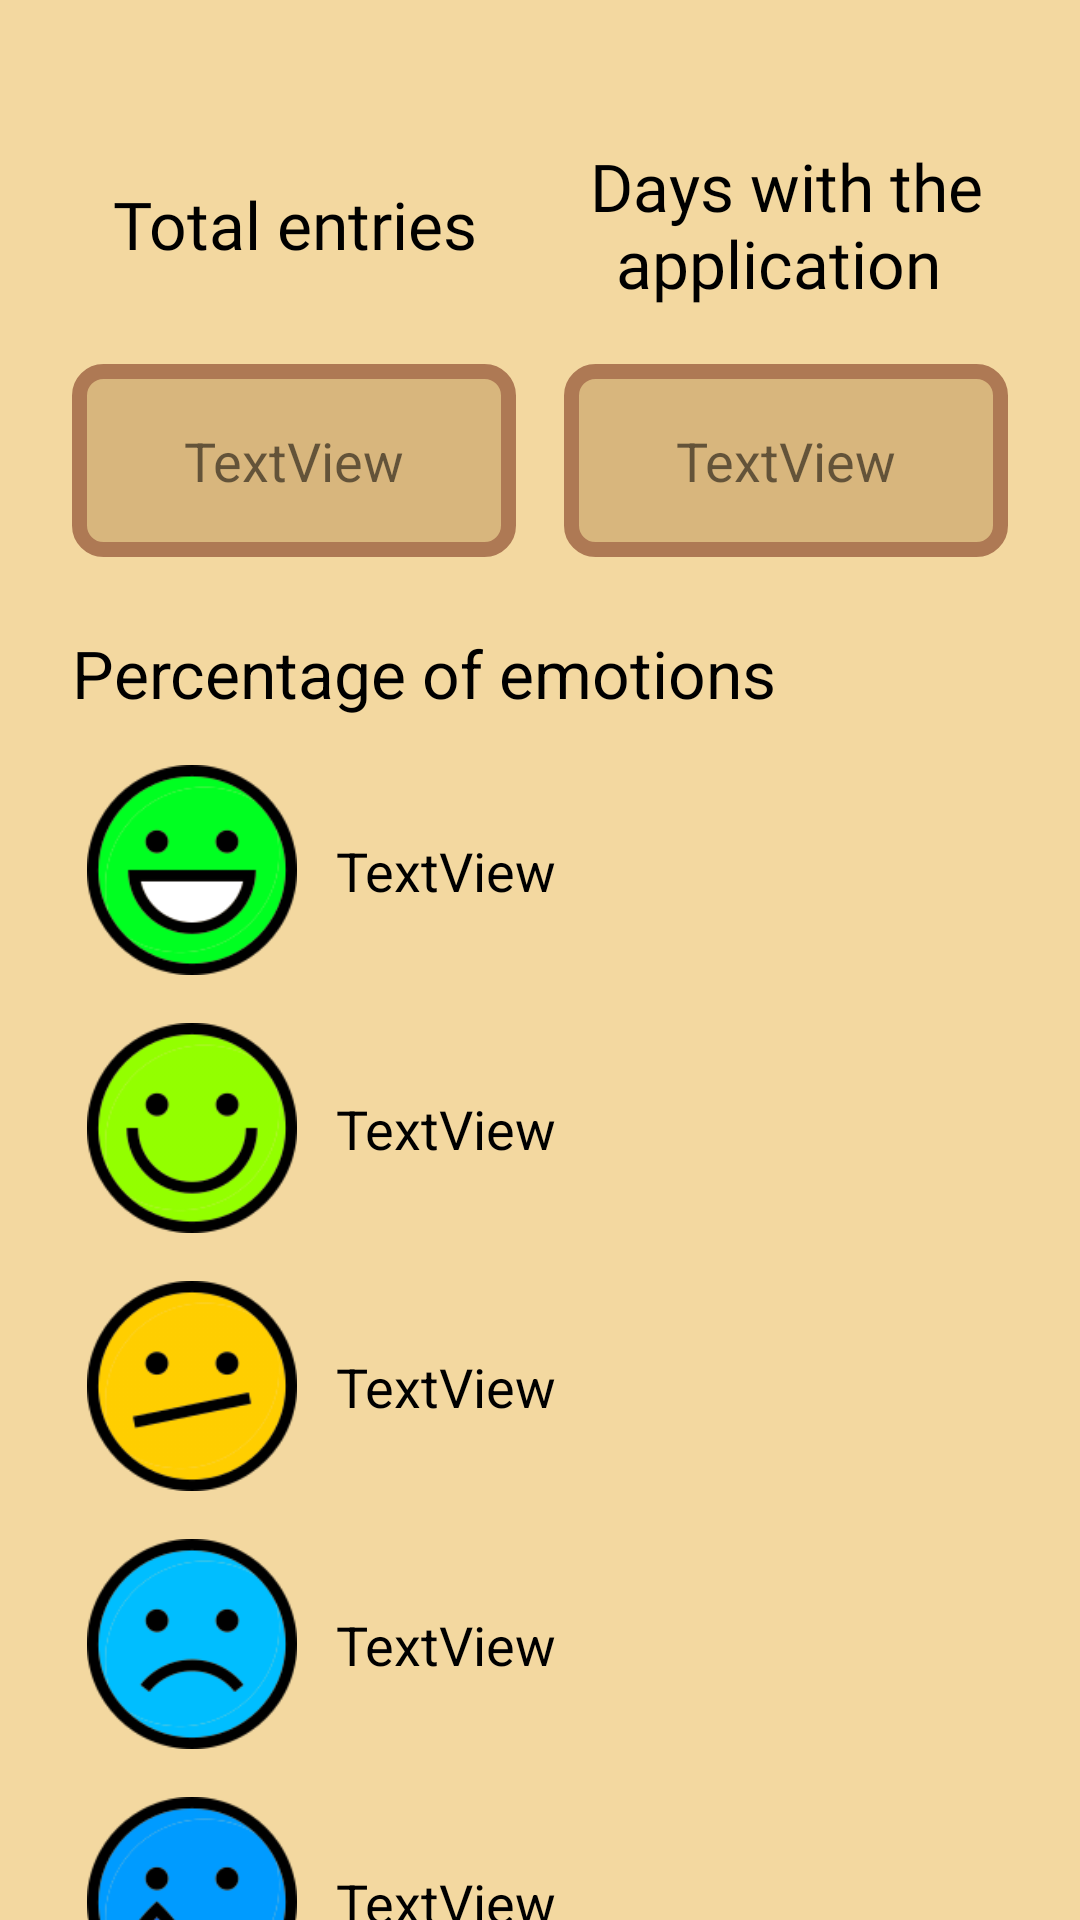

Where to tap for icons on this 1080x1920 app screen, as [x,y]:
contento: [192,1128]
indiferente: [192,1386]
muy contento: [192,870]
triste: [192,1644]
